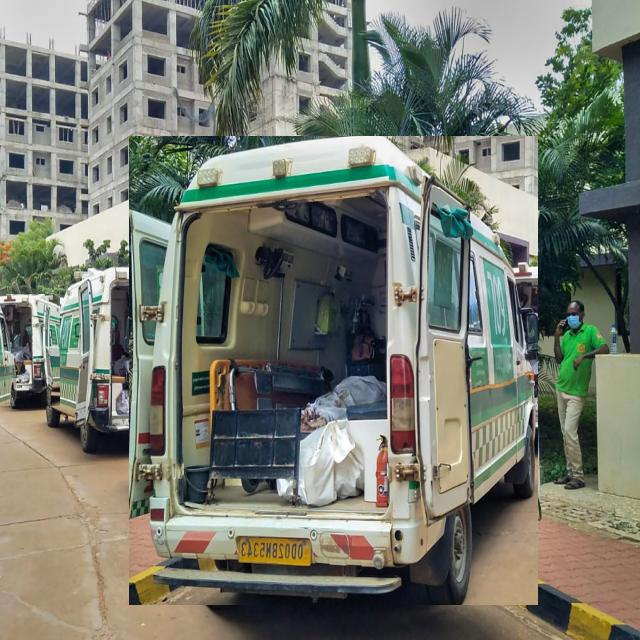emergency: (130, 136, 538, 605), (45, 267, 154, 452), (0, 295, 60, 406)
